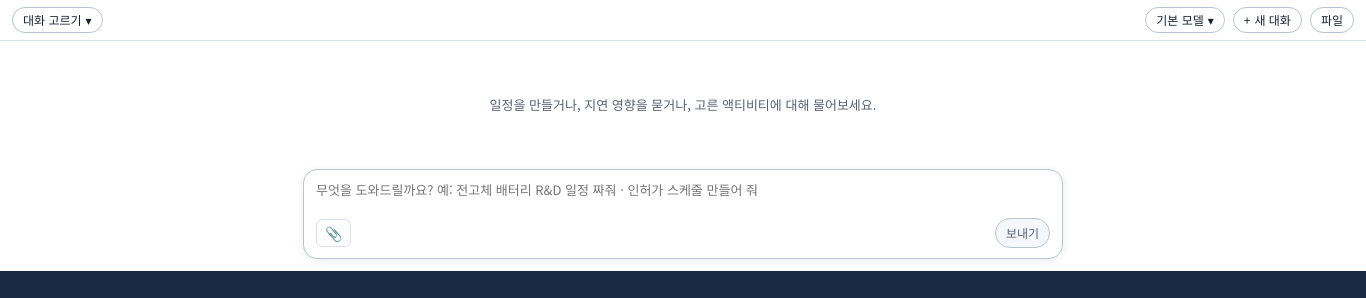
it: R6 · stop and busy › stop asks the server and keeps the stream until done
Step 1. Type "길게 일해 줘" into the text box named "에이전트에게 요청" → [683, 199], box 316,180 -> 1050,218
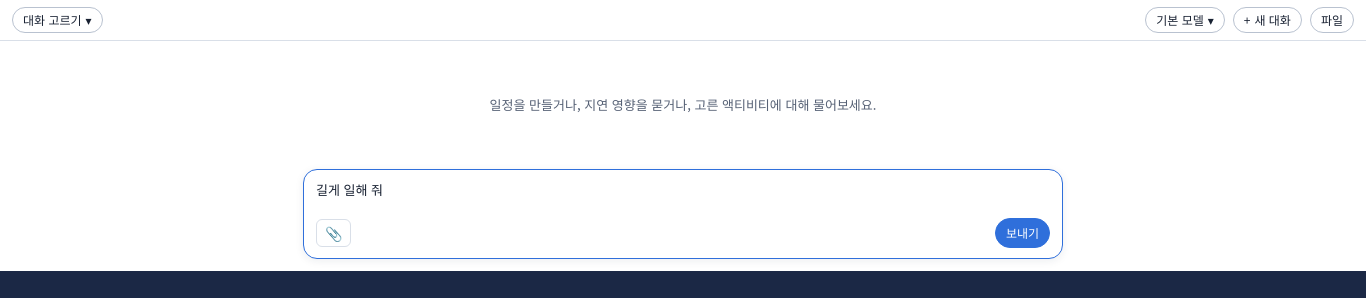
Step 2. Click the button "보내기" → [1022, 233], box 995,218 -> 1050,248
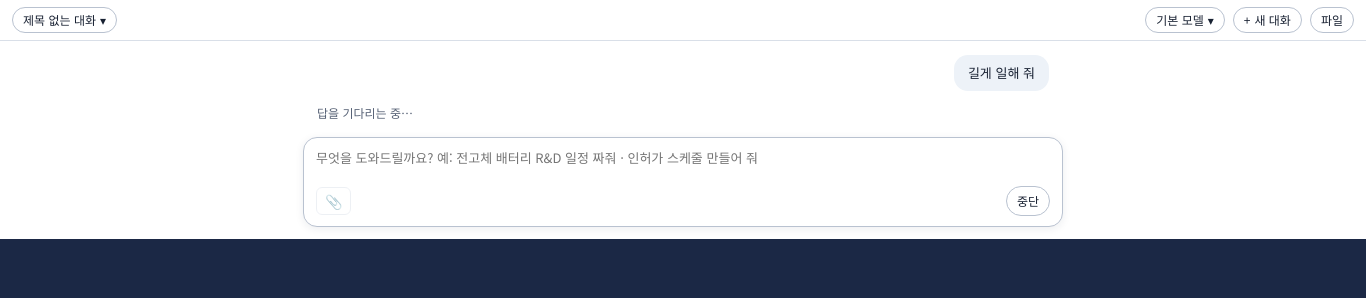
Step 3. Click the button "중단" → [1028, 201], box 1006,186 -> 1050,216
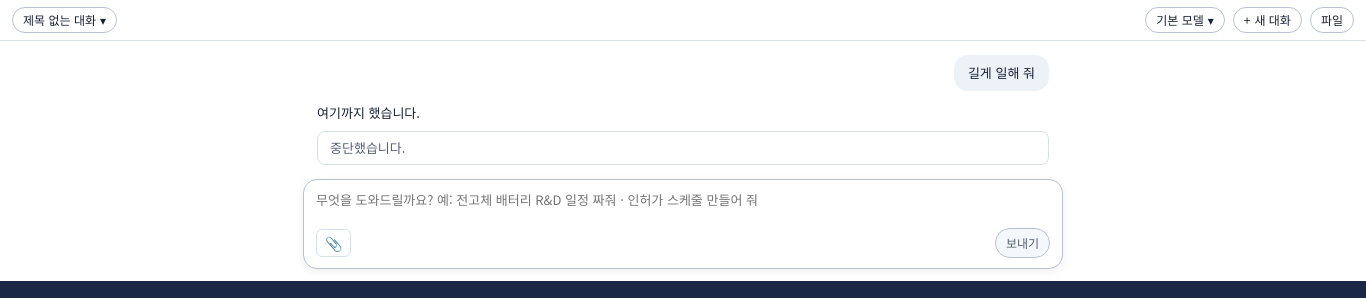
expect the button named "중단하는 중…" is disabled: met, box 995,228 -> 1050,258
expect the text "여기까지 했습니다." is shown: met, box 317,103 -> 420,122
expect the text "중단했습니다." is shown: met, box 330,138 -> 405,158
